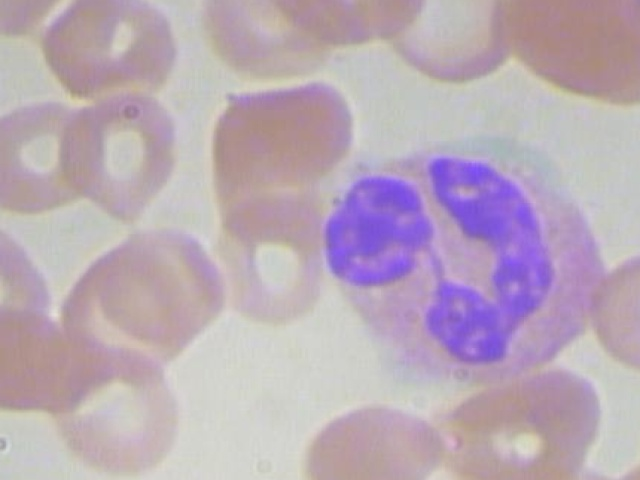RBC: (202, 181, 328, 330), (37, 344, 184, 471), (55, 93, 185, 222), (24, 0, 182, 105), (302, 387, 449, 480), (174, 0, 332, 86), (0, 93, 96, 222), (583, 235, 640, 382), (265, 0, 437, 46)
WBC: (293, 133, 626, 383)
